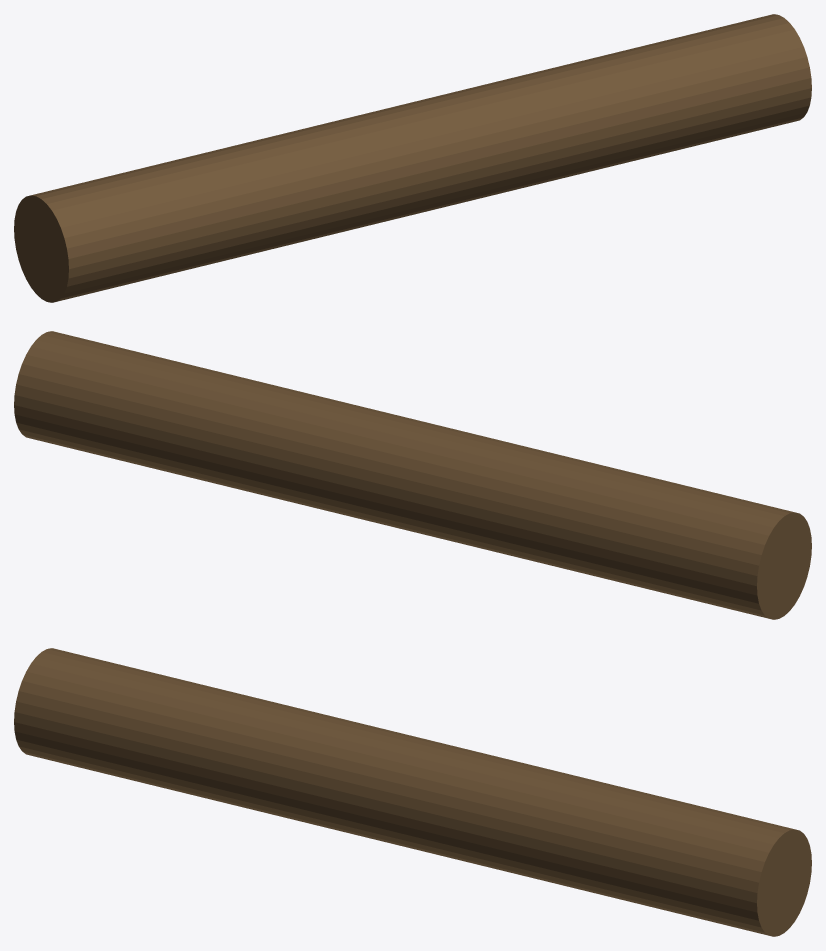
File: StoneWell_part_19.fbx
3 renders of one model, top to bottom at view 1: azimuth 30°, elevation 25°; view 2: azimuth 150°, elevation 25°; view 3: azimuth 330°, elevation 25°, orthographic.
Parts seen in each view (by area): view 1: Cylinder.002_Rod_0.001; view 2: Cylinder.002_Rod_0.001; view 3: Cylinder.002_Rod_0.001.
Boxes of the visible parts, left/top/right/bottom form: Cylinder.002_Rod_0.001: left=14, top=14, right=811, bottom=302; Cylinder.002_Rod_0.001: left=14, top=331, right=811, bottom=619; Cylinder.002_Rod_0.001: left=14, top=648, right=811, bottom=936.
Bounding box in the file's own units: 651 × 83.57 × 83.57.
